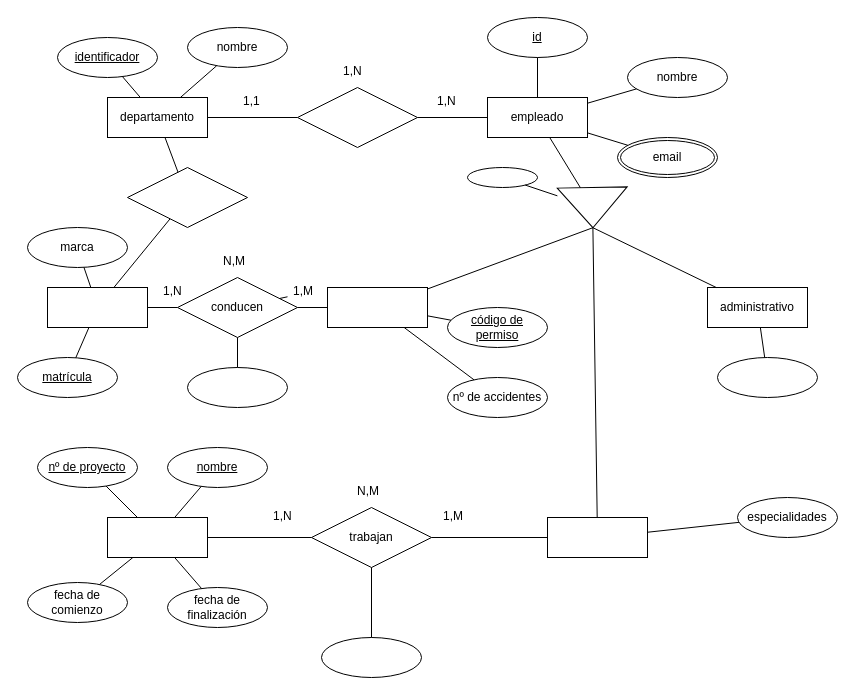
Some shapes in this 855 by 695 pixel diagram are drawn without their labels. Here are the shapes that lost their labels. From the top down, the centre of each, then its label:
the point at 357,117: asignado
the point at 187,197: tiene
the point at 502,177: tipo
the point at 97,307: vehículos
the point at 377,307: conductor
the point at 237,387: fecha de conducción
the point at 767,377: idiomas
the point at 157,537: proyecto
the point at 597,537: técnico
the point at 371,657: horas trabajadas
